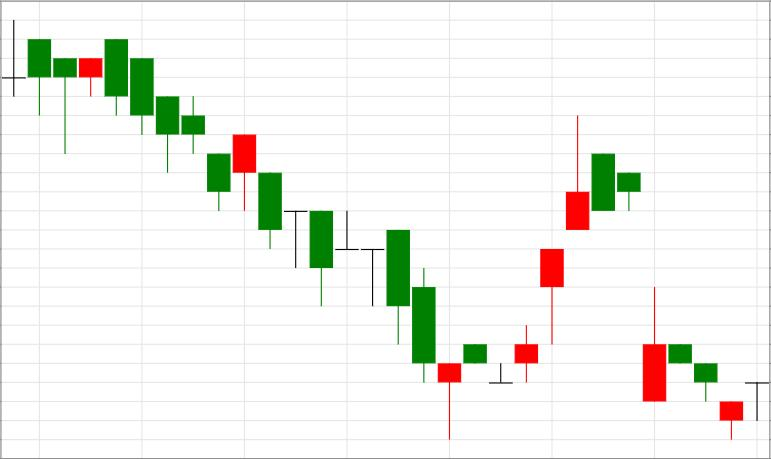hammer_rise: (258, 173, 461, 439)
shooting_star_fall: (489, 116, 590, 384)
